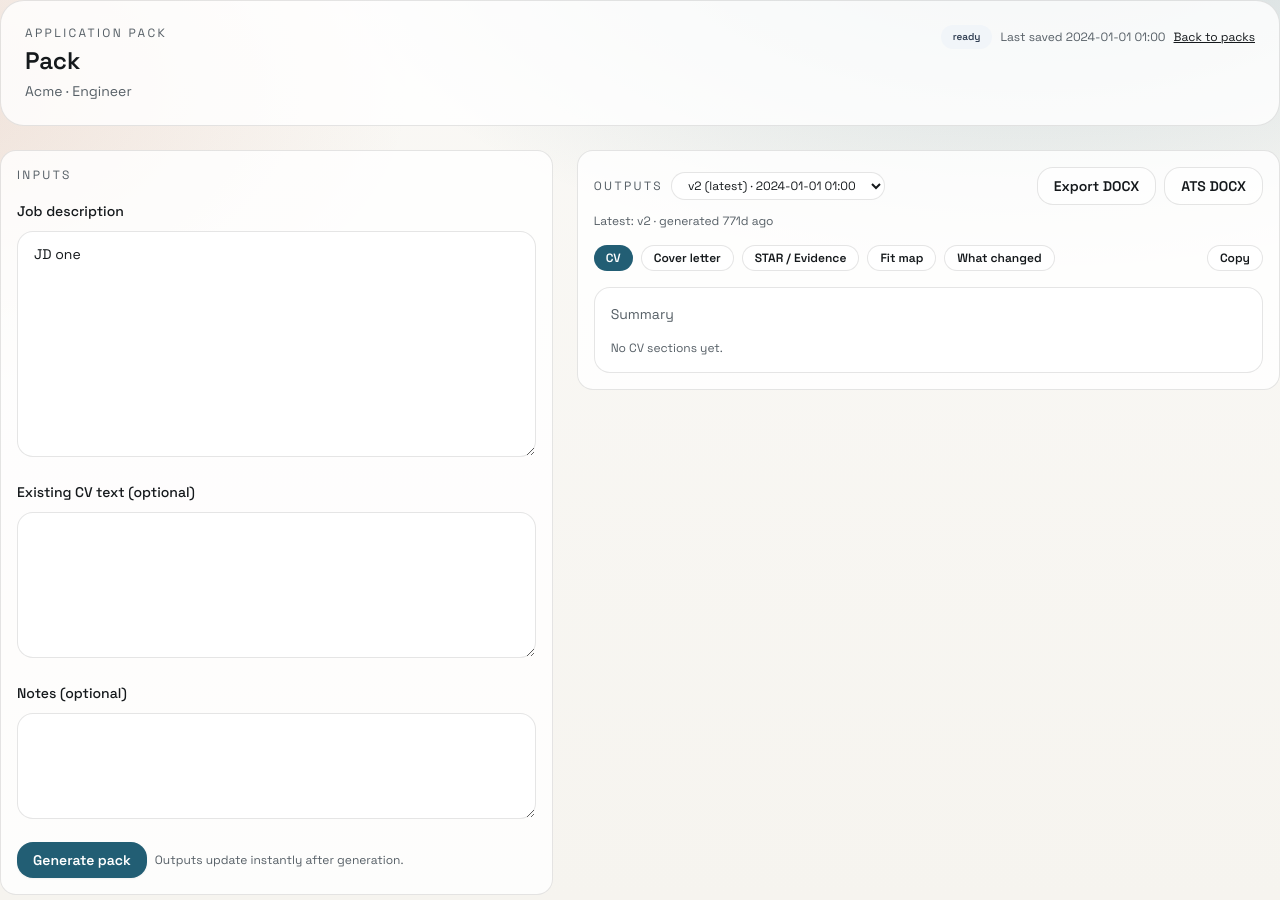
Test: pack detail UI › renders tabs and switches version
This screenshot has width=1280, height=900.
Expected: the button "CV" is shown, left=594, top=245, right=633, bottom=271
Expected: the button "Cover letter" is shown, left=641, top=245, right=734, bottom=271
Select "v1 · 2024-01-01 00:30" in the dropdown showing "Latest". click: (778, 186)
box: left=671, top=172, right=885, bottom=200
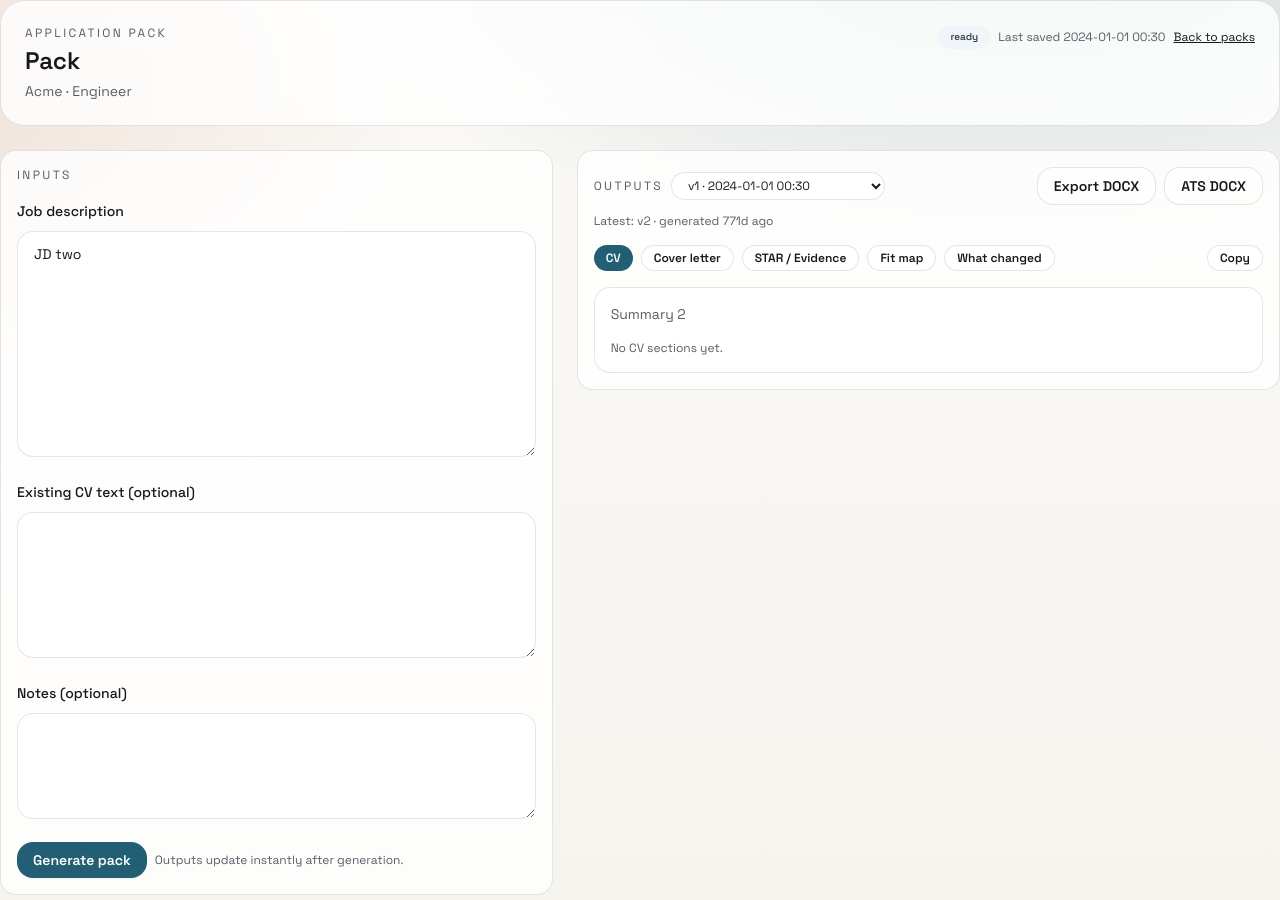
Result: the text box labelled "Job description" holds "JD two" at left=17, top=231, right=536, bottom=457
